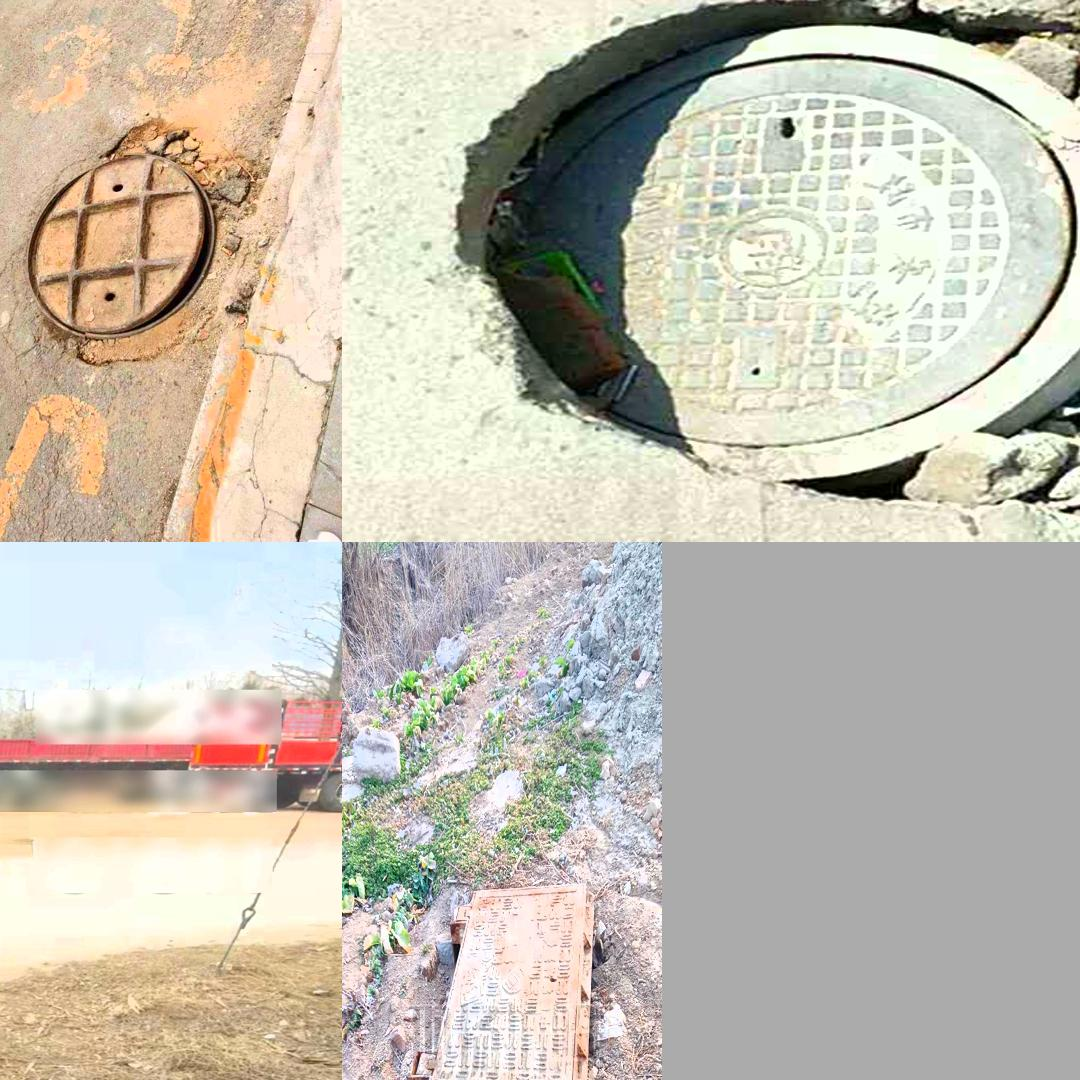circle: (458, 0, 1080, 495), (0, 114, 291, 382), (409, 875, 600, 1080)
